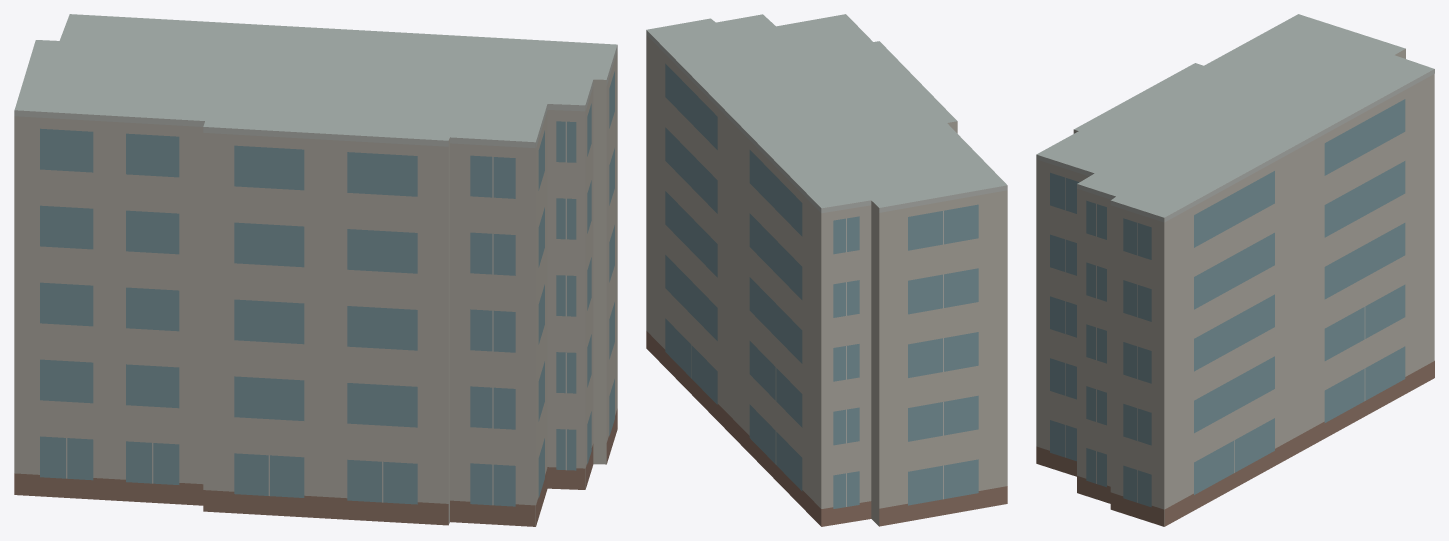
The model's file is survey-upis-32652040.glb.
The picture shows the model from 3 angles, left to right: view 1: azimuth 30°, elevation 25°; view 2: azimuth 150°, elevation 25°; view 3: azimuth 270°, elevation 25°; orthographic projection. The views are drawn at different scales.
Visible parts, largest first — view 1: survey-upis-32652040.tmp; view 2: survey-upis-32652040.tmp; view 3: survey-upis-32652040.tmp.
Boxes of the visible parts, x1=… form: survey-upis-32652040.tmp: x1=14, y1=14, x2=617, y2=526; survey-upis-32652040.tmp: x1=646, y1=14, x2=1007, y2=526; survey-upis-32652040.tmp: x1=1036, y1=14, x2=1434, y2=526.
Bounding box in the file's own units: 22.21 × 15.7 × 18.35.
